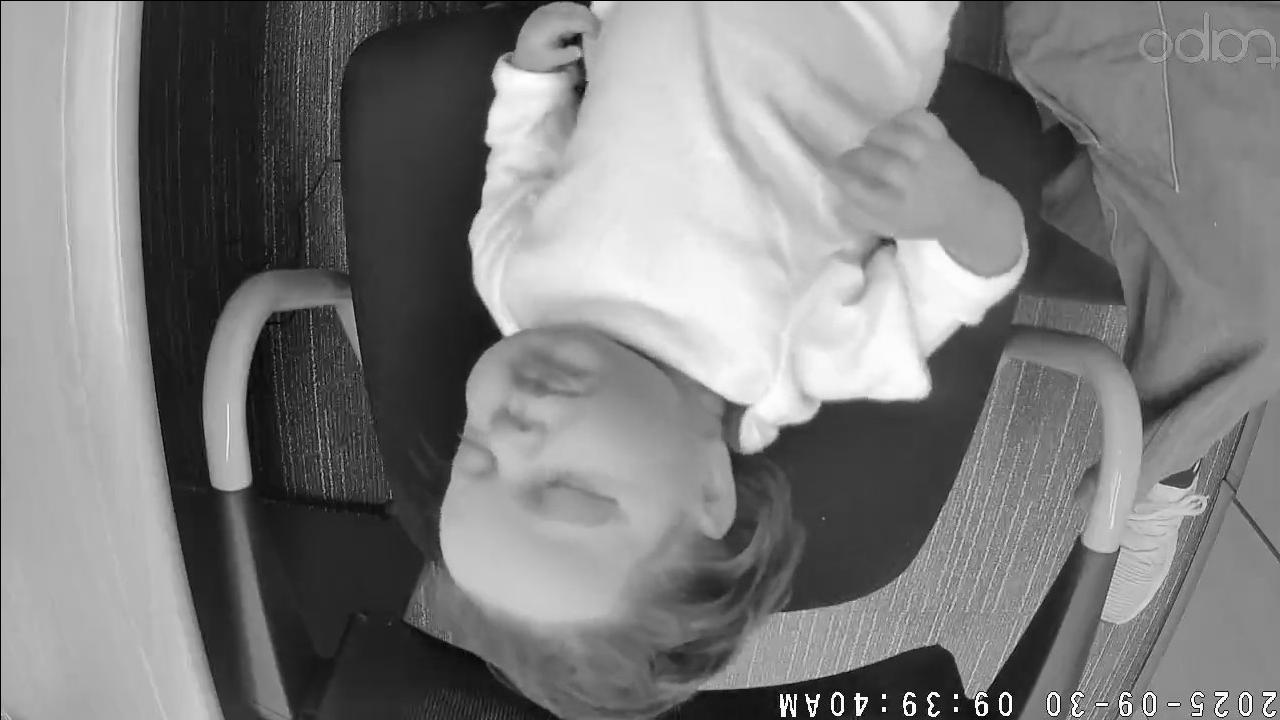hand: (823, 124, 924, 240), (510, 4, 600, 72)
